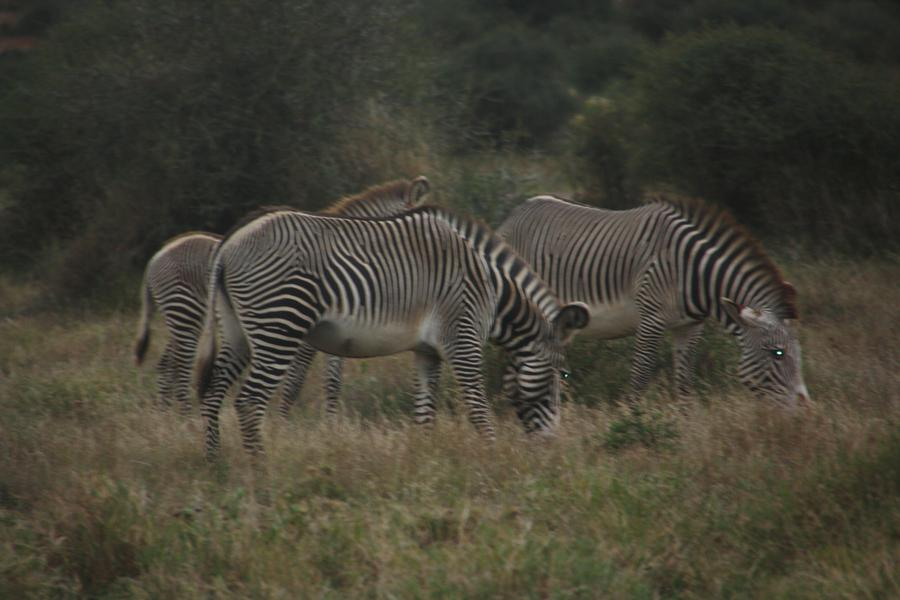zebra_grevys: (213, 217, 486, 348)
